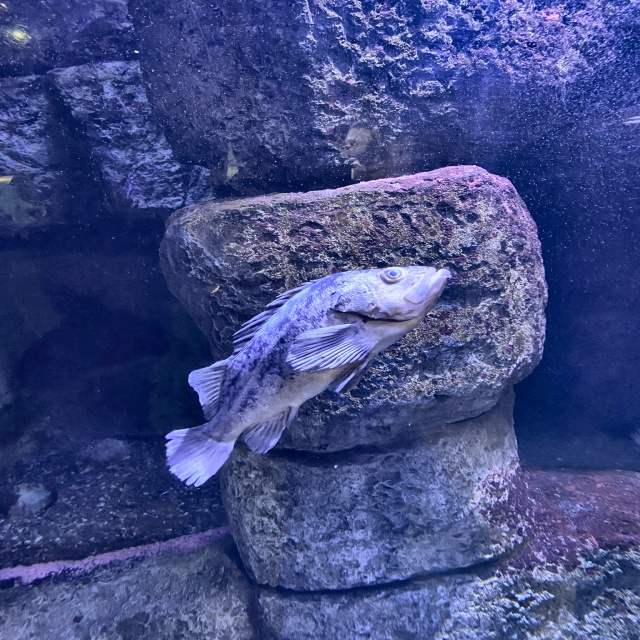fish: (165, 265, 450, 485)
